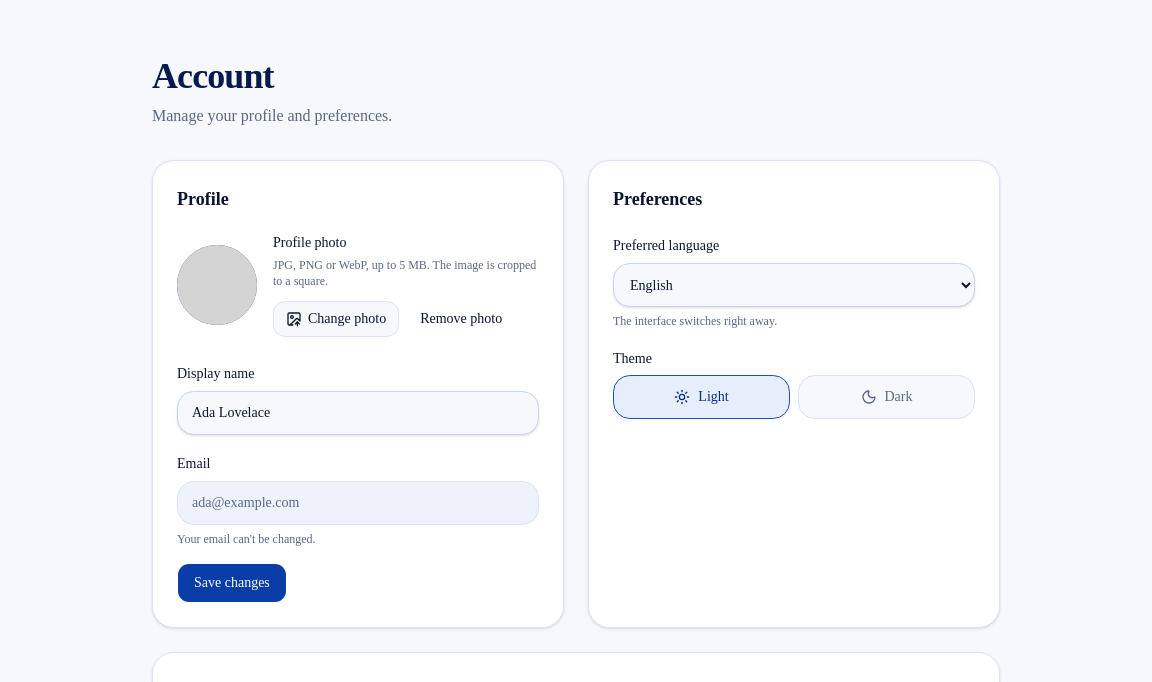
Test: AccountForm avatar › removes a custom avatar and falls back to initials
The image size is (1152, 682).
Click the button "Remove photo": (461, 319) [407,301,515,337]
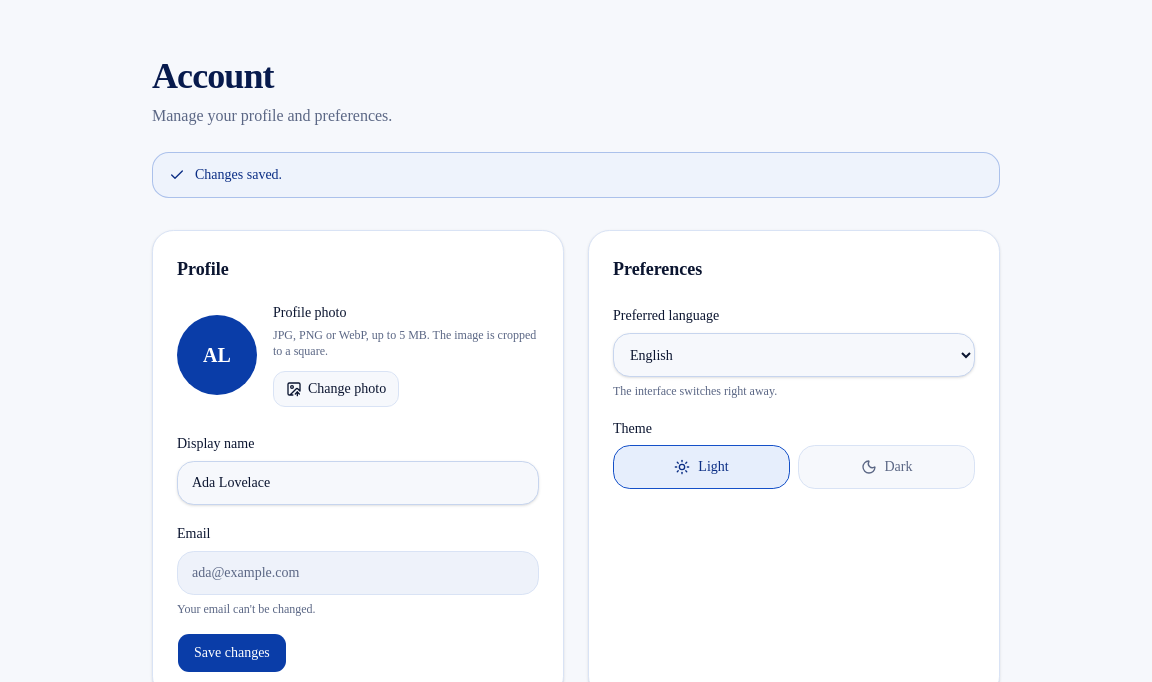
Expected: the picture is gone
Expected: the text "AL" is shown, [203,341,231,369]
